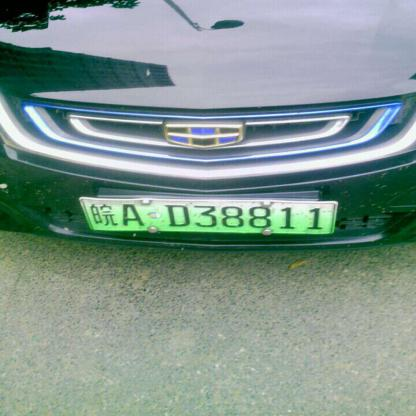lp: (78, 196, 338, 234)
